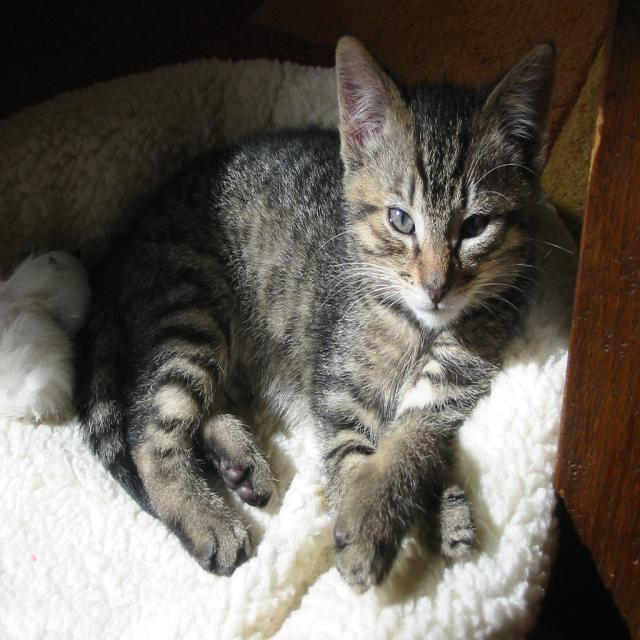cat: (71, 34, 581, 596)
